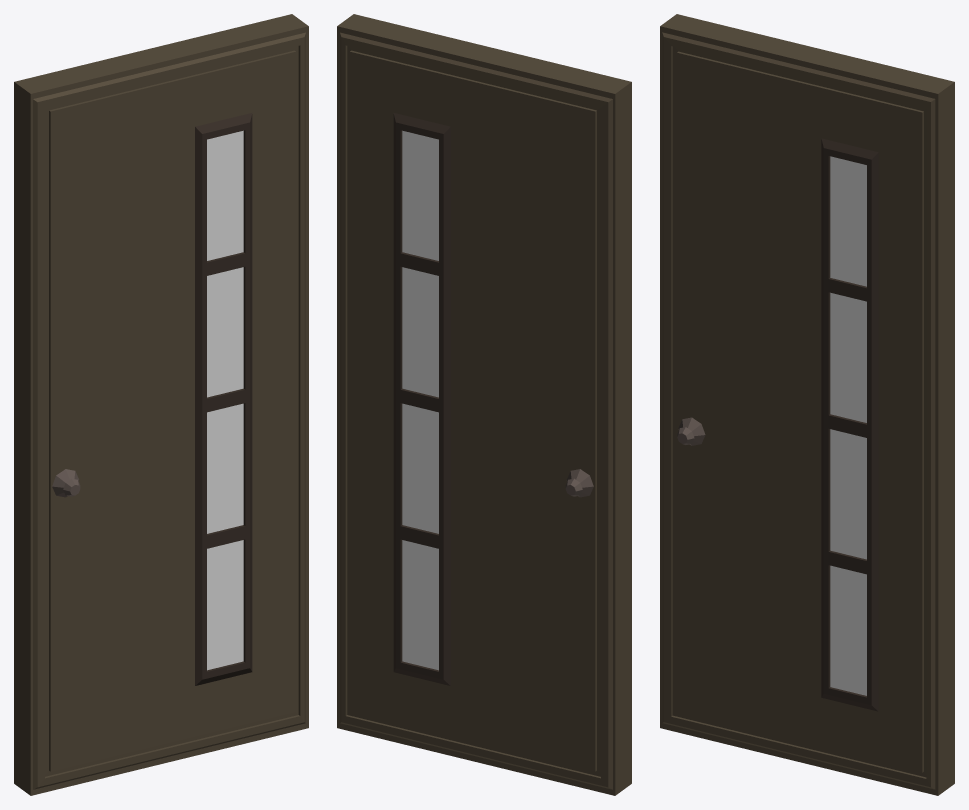
Rendered from Door.glb.
3 views of the same model, side by side, from view 1: azimuth 30°, elevation 25°; view 2: azimuth 150°, elevation 25°; view 3: azimuth 330°, elevation 25° (orthographic).
Visible parts, largest first — view 1: Door; view 2: Door; view 3: Door.
Boxes of the visible parts, x1,y1,x2,y2 form: Door: (14, 14, 308, 795); Door: (337, 14, 631, 795); Door: (660, 14, 954, 795).
Size of the model in its own units: 1.74 by 4.2 by 0.4211.
